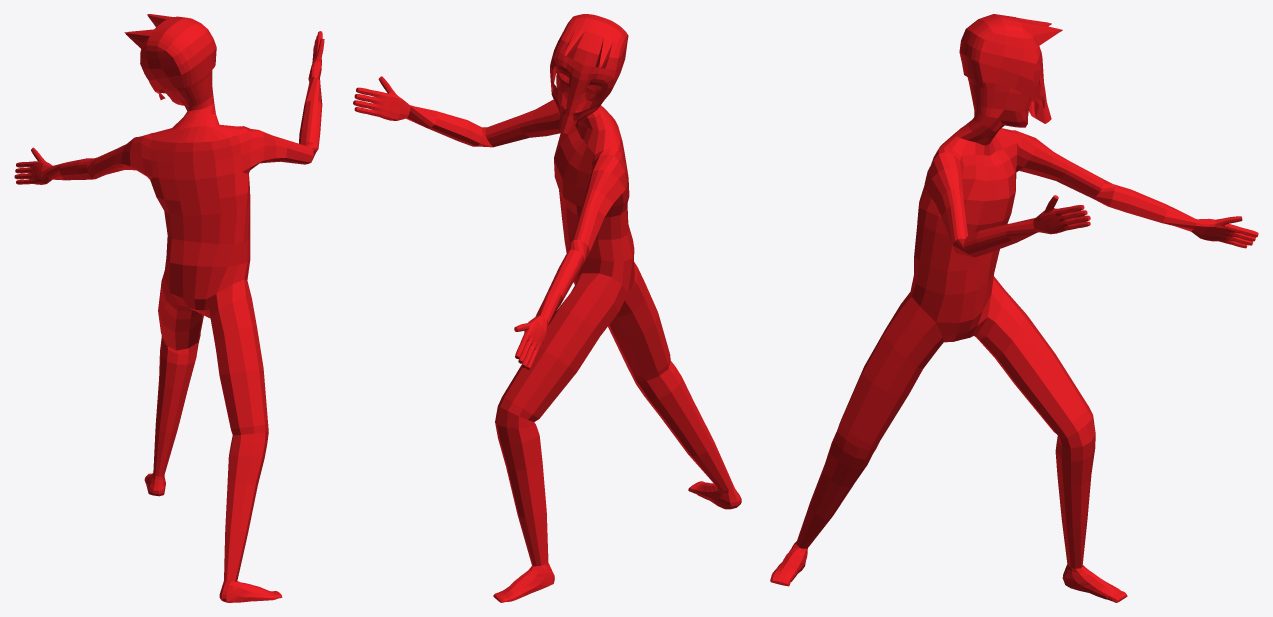
The model's file is activaAlarma_000160.obj.
3 renders of one model, left to right at view 1: azimuth 30°, elevation 25°; view 2: azimuth 150°, elevation 25°; view 3: azimuth 270°, elevation 25°, orthographic. The views are drawn at different scales.
Visible parts, largest first — view 1: Plane.002_Plane.001; view 2: Plane.002_Plane.001; view 3: Plane.002_Plane.001.
Part boxes in pixels (bbox=[...]): Plane.002_Plane.001: bbox=[14, 14, 324, 602]; Plane.002_Plane.001: bbox=[353, 14, 741, 602]; Plane.002_Plane.001: bbox=[770, 14, 1258, 602].
Bounding box in the file's own units: 3.21 × 6.66 × 5.18.
